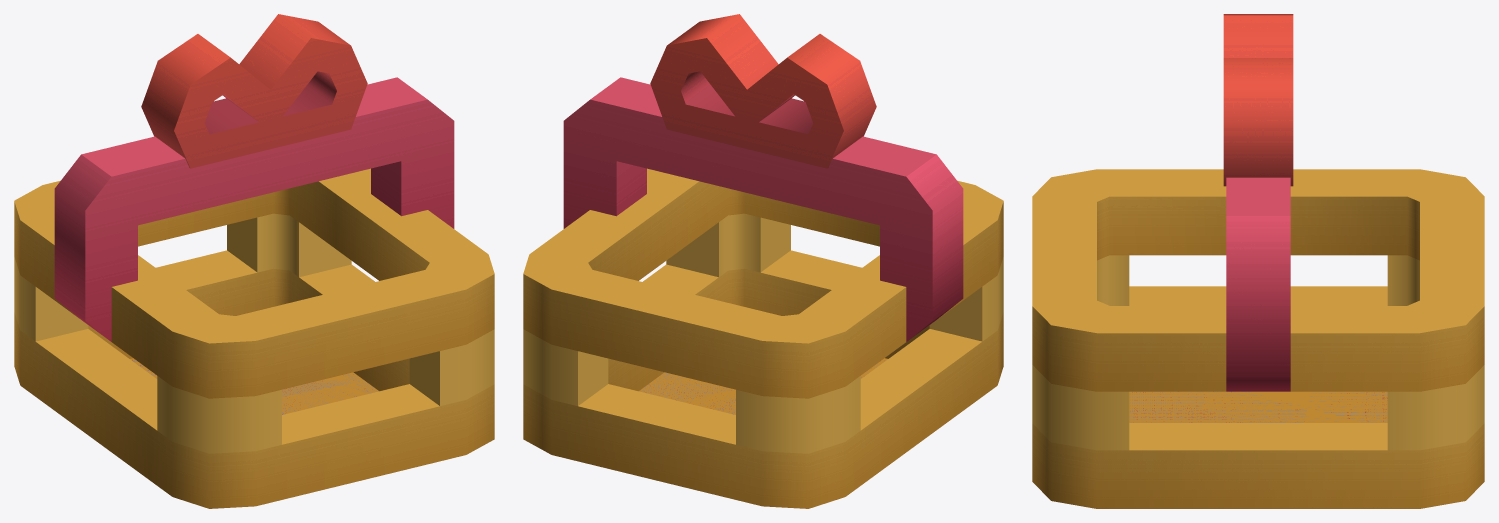
Rendered from jumbo-basket-kenney.glb.
The picture shows the model from 3 angles, left to right: view 1: azimuth 30°, elevation 25°; view 2: azimuth 150°, elevation 25°; view 3: azimuth 270°, elevation 25°; orthographic projection. The views are drawn at different scales.
Visible parts, largest first — view 1: basket, bow; view 2: basket, bow; view 3: basket, bow.
Part boxes in pixels (x1,y1,x2,y2): basket: [14, 77, 494, 508]; bow: [141, 14, 367, 168]; basket: [523, 77, 1003, 508]; bow: [650, 14, 876, 168]; basket: [1032, 169, 1484, 508]; bow: [1223, 14, 1293, 186].
Size of the model in its own units: 0.455 by 0.4325 by 0.455.
Materials: 2 (2 with a texture image).
